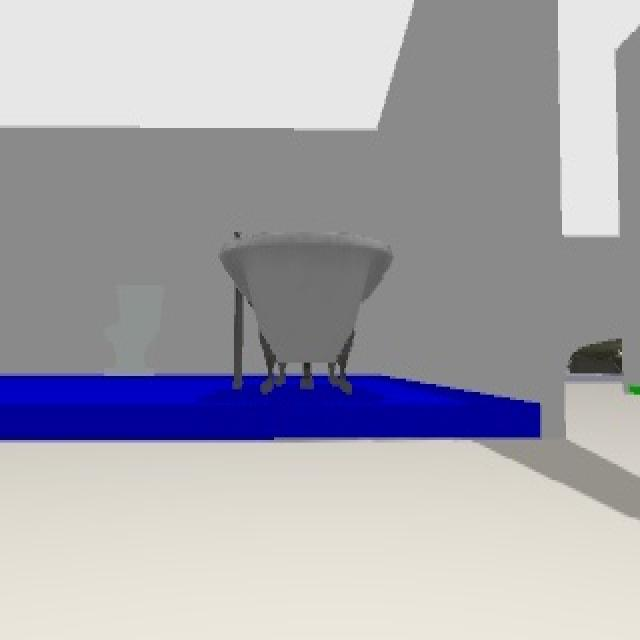bathtub: (216, 229, 396, 395)
